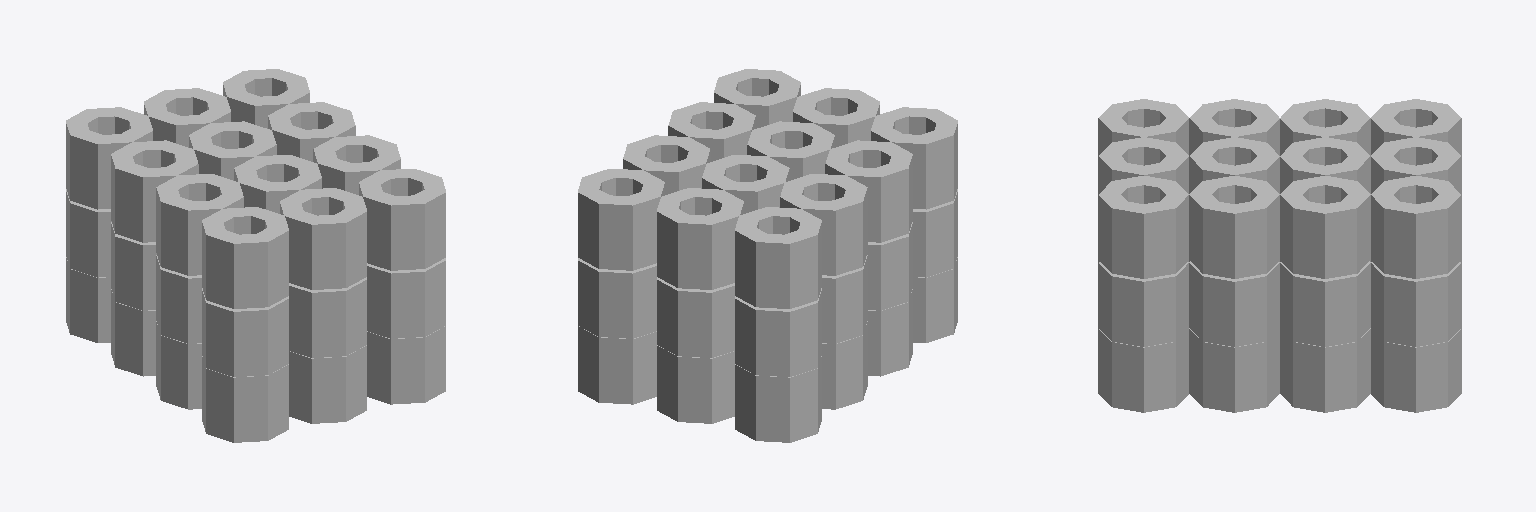
Rendered from ToiletPaperPack.obj.
3 renders of one model, left to right at view 1: azimuth 30°, elevation 25°; view 2: azimuth 150°, elevation 25°; view 3: azimuth 270°, elevation 25°, orthographic.
Parts seen in each view (by area): view 1: ToiletPaperPack; view 2: ToiletPaperPack; view 3: ToiletPaperPack.
Part boxes in pixels (left/top/right/bottom): ToiletPaperPack: left=66, top=69, right=445, bottom=442; ToiletPaperPack: left=578, top=69, right=957, bottom=442; ToiletPaperPack: left=1098, top=99, right=1461, bottom=412.
Bounding box in the file's own units: 1.02 × 0.8236 × 1.36.